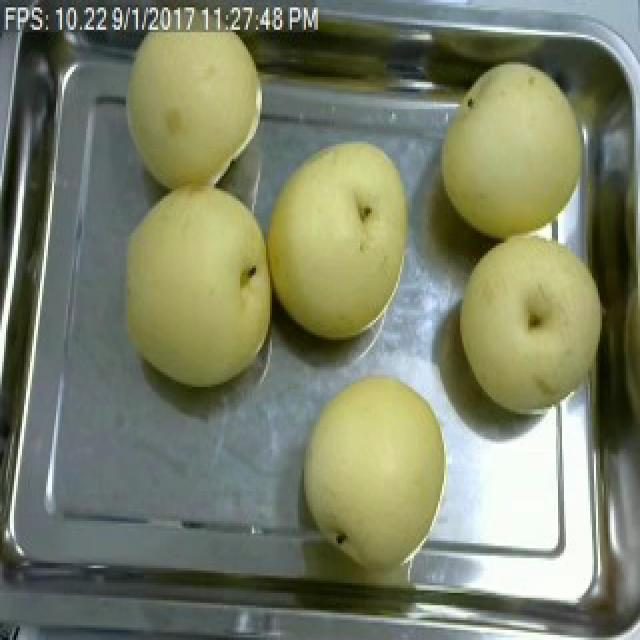Fruit: (104, 174, 278, 399), (426, 47, 604, 256), (444, 221, 618, 424), (270, 126, 424, 350), (292, 364, 456, 570), (116, 12, 272, 198)
